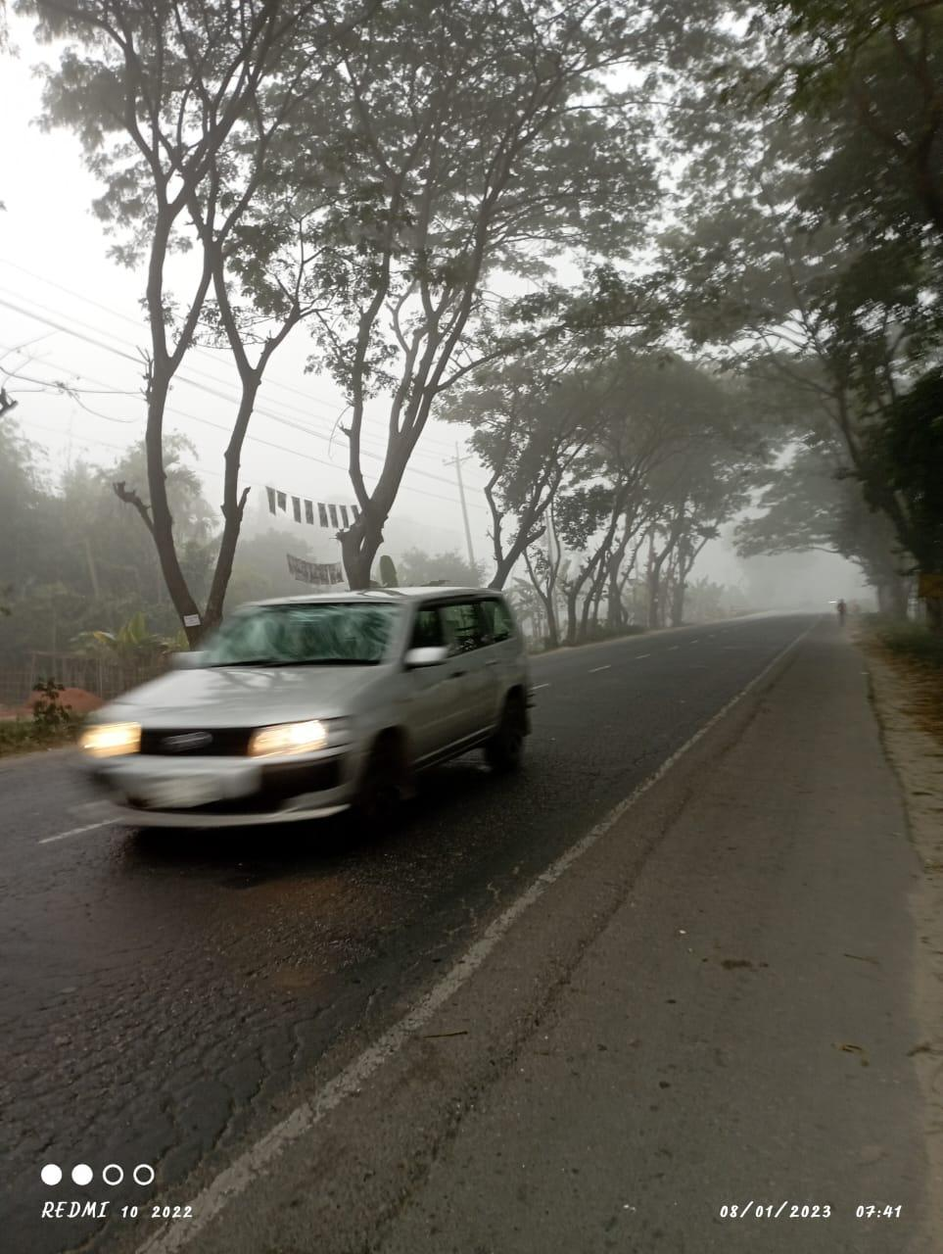Car: (80, 580, 553, 814)
